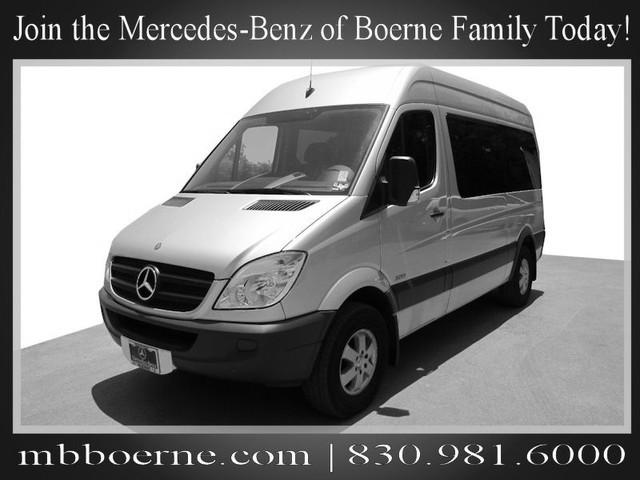car: (101, 65, 545, 410)
